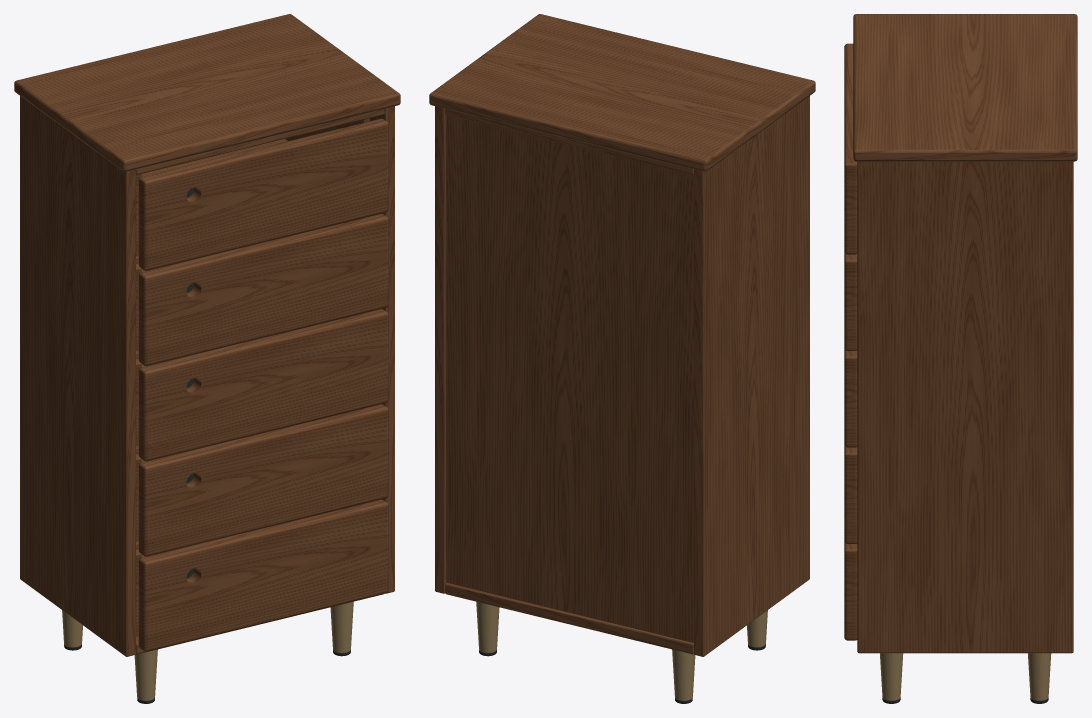
3 views of the same model, side by side, from view 1: azimuth 30°, elevation 25°; view 2: azimuth 150°, elevation 25°; view 3: azimuth 270°, elevation 25° (orthographic).
Visible parts, largest first — view 1: Case | side, Top | walnut overhang, Drawer 1 | walnut face, Drawer 2 | walnut face, Drawer 0 | walnut face, Drawer 4 | walnut face, Drawer 3 | walnut face, Case | side.001, Case | horizontal panel.001, Leg | tapered furniture foot, Leg | tapered furniture foot.002; view 2: Case | inset back, Case | side, Top | walnut overhang, Case | side.001, Case | horizontal panel, Case | horizontal panel.001, Leg | tapered furniture foot.001, Leg | tapered furniture foot.003; view 3: Case | side.001, Top | walnut overhang, Drawer 4 | walnut face, Drawer 1 | walnut face, Drawer 3 | walnut face, Drawer 0 | walnut face, Drawer 2 | walnut face, Leg | tapered furniture foot.002, Leg | tapered furniture foot.003.
Boxes of the visible parts, left/top/right/bottom form: Case | side: left=20, top=96, right=135, bottom=656; Top | walnut overhang: left=14, top=14, right=400, bottom=171; Drawer 1 | walnut face: left=138, top=404, right=388, bottom=556; Drawer 2 | walnut face: left=138, top=309, right=388, bottom=461; Drawer 0 | walnut face: left=138, top=499, right=388, bottom=651; Drawer 4 | walnut face: left=138, top=118, right=388, bottom=270; Drawer 3 | walnut face: left=138, top=214, right=388, bottom=366; Case | side.001: left=370, top=106, right=394, bottom=593; Case | horizontal panel.001: left=136, top=108, right=384, bottom=174; Leg | tapered furniture foot: left=134, top=649, right=157, bottom=700; Leg | tapered furniture foot.002: left=330, top=601, right=353, bottom=653; Case | inset back: left=446, top=115, right=693, bottom=642; Case | side: left=694, top=96, right=809, bottom=656; Top | walnut overhang: left=429, top=14, right=815, bottom=171; Case | side.001: left=435, top=106, right=446, bottom=593; Case | horizontal panel: left=445, top=583, right=693, bottom=654; Case | horizontal panel.001: left=445, top=108, right=693, bottom=174; Leg | tapered furniture foot.001: left=672, top=649, right=695, bottom=700; Leg | tapered furniture foot.003: left=476, top=601, right=499, bottom=653; Case | side.001: left=857, top=161, right=1073, bottom=653; Top | walnut overhang: left=853, top=14, right=1077, bottom=161; Drawer 4 | walnut face: left=844, top=43, right=857, bottom=254; Drawer 1 | walnut face: left=844, top=445, right=857, bottom=543; Drawer 3 | walnut face: left=844, top=252, right=857, bottom=350; Drawer 0 | walnut face: left=844, top=542, right=857, bottom=640; Drawer 2 | walnut face: left=844, top=349, right=857, bottom=447; Leg | tapered furniture foot.002: left=880, top=653, right=903, bottom=700; Leg | tapered furniture foot.003: left=1028, top=653, right=1051, bottom=700.
Size of the model in its own units: 0.681 by 1.32 by 0.489.
4 materials, 1 textured.
